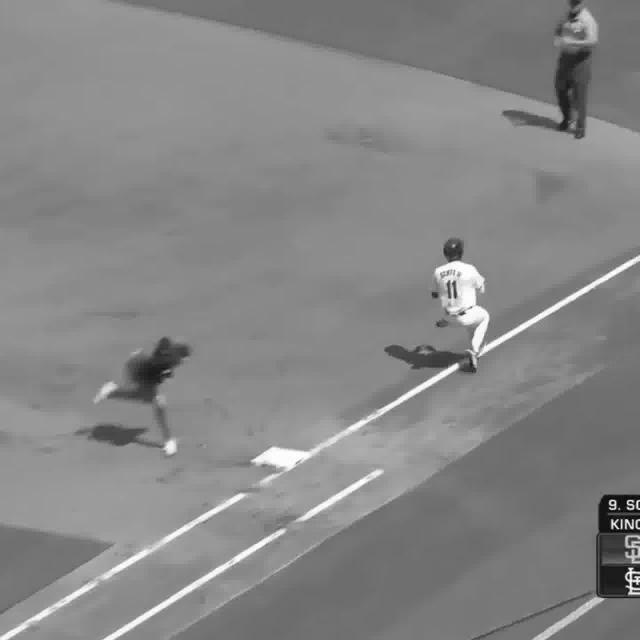base: (248, 444, 310, 469)
shoe: (92, 379, 117, 405), (163, 439, 179, 460), (474, 356, 482, 375)
